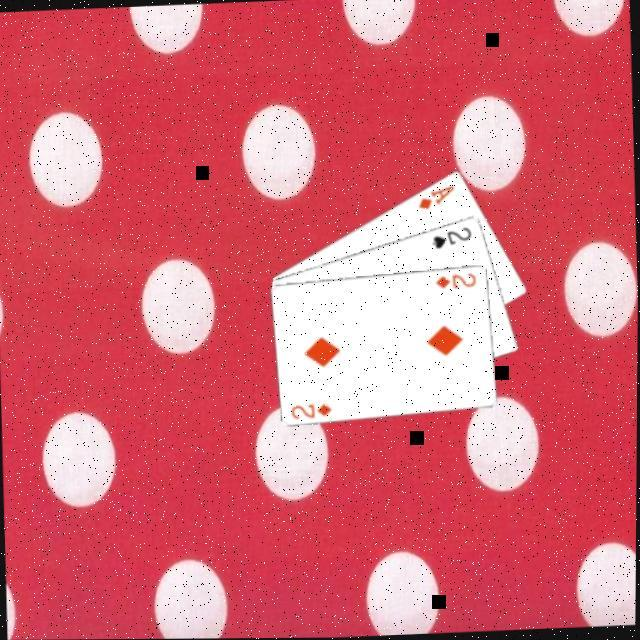2D: (430, 268, 477, 290), (286, 398, 332, 420)
2S: (426, 222, 472, 250)
AD: (413, 180, 456, 210)
